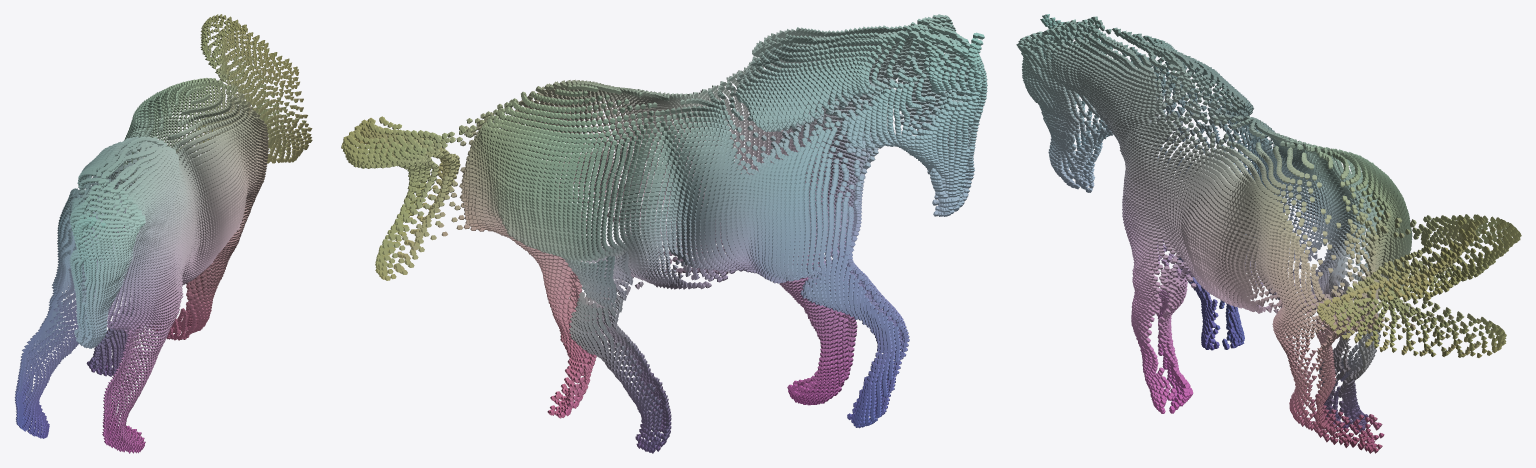
Rendered from 2008_008193_1_pcan.glb.
3 renders of one model, left to right at view 1: azimuth 30°, elevation 25°; view 2: azimuth 150°, elevation 25°; view 3: azimuth 270°, elevation 25°, orthographic. The views are drawn at different scales.
Visible parts, largest first — view 1: target; view 2: target; view 3: target.
Boxes of the visible parts, left/top/right/bottom form: target: left=14, top=14, right=312, bottom=453; target: left=341, top=14, right=987, bottom=453; target: left=1016, top=14, right=1521, bottom=453.
Size of the model in its own units: 2.28 by 1.78 by 2.26.
